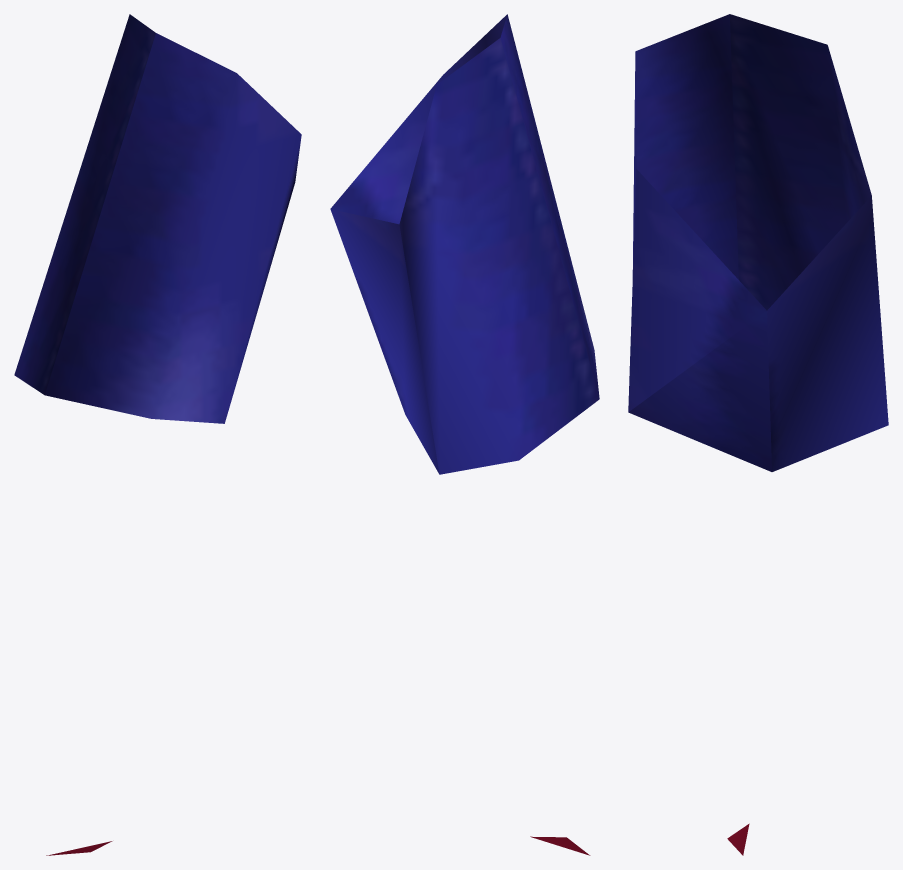
File: PiernaDer.obj
3 renders of one model, left to right at view 1: azimuth 30°, elevation 25°; view 2: azimuth 150°, elevation 25°; view 3: azimuth 270°, elevation 25°, orthographic. The views are drawn at different scales.
Visible parts, largest first — view 1: PiernaDer_Mesh_0030.007; view 2: PiernaDer_Mesh_0030.007; view 3: PiernaDer_Mesh_0030.007.
Part boxes in pixels (x1,y1,x2,y2): PiernaDer_Mesh_0030.007: (14,14,301,855); PiernaDer_Mesh_0030.007: (330,14,599,855); PiernaDer_Mesh_0030.007: (628,14,888,855).
Bounding box in the file's own units: 5.35 × 15.66 × 4.29.
3 materials, 3 textured.
